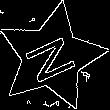N_NE: (20, 28, 83, 86)
